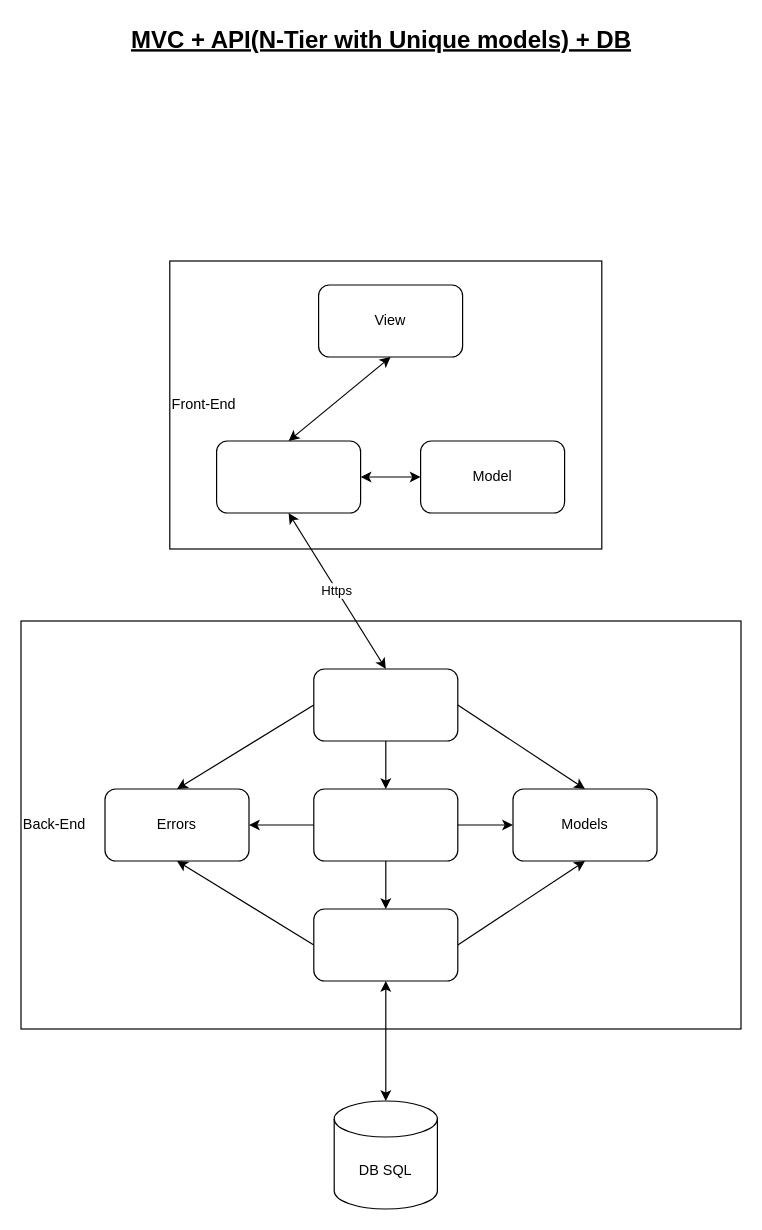
Image size: 762x1230. Some labels were removed from this diagram. Here are the shapes that lost their labels. From the top down, the centre of each, then its label:
At (288,476): "Controller".
At (385,704): "API".
At (385,824): "Business Logic Layer".
At (385,944): "Data Access Layer".
